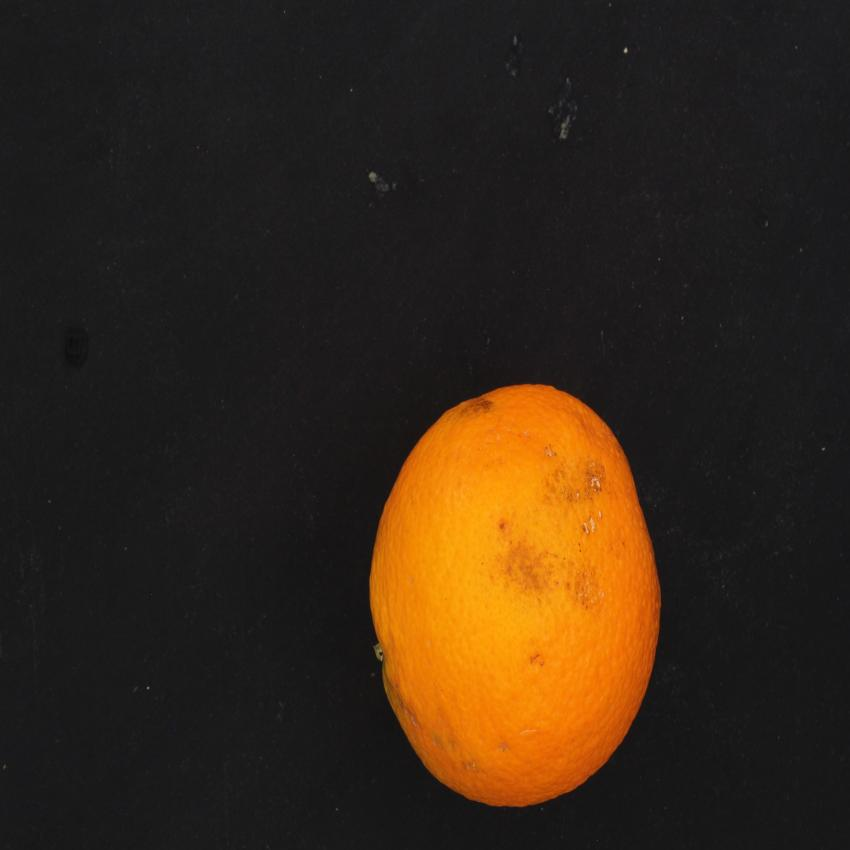Mal estado: (362, 370, 668, 817)
